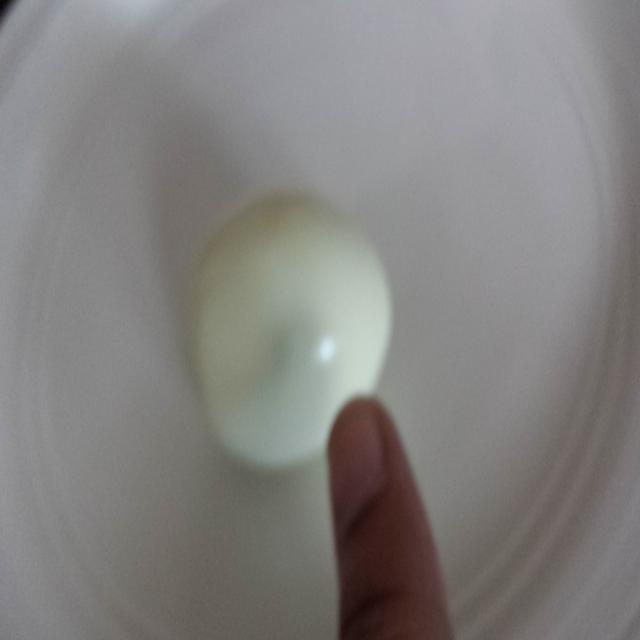egg: (172, 181, 419, 479)
